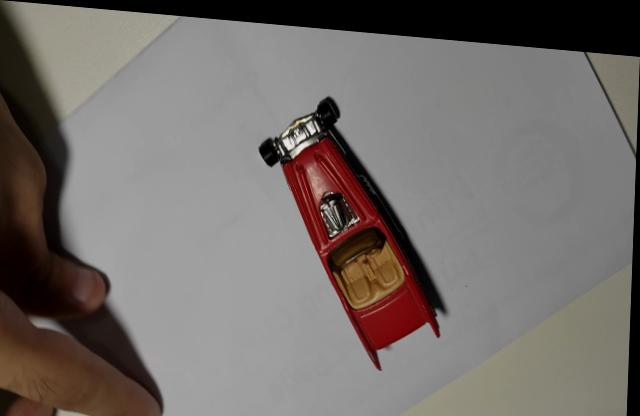03_V8: (260, 89, 452, 361)
